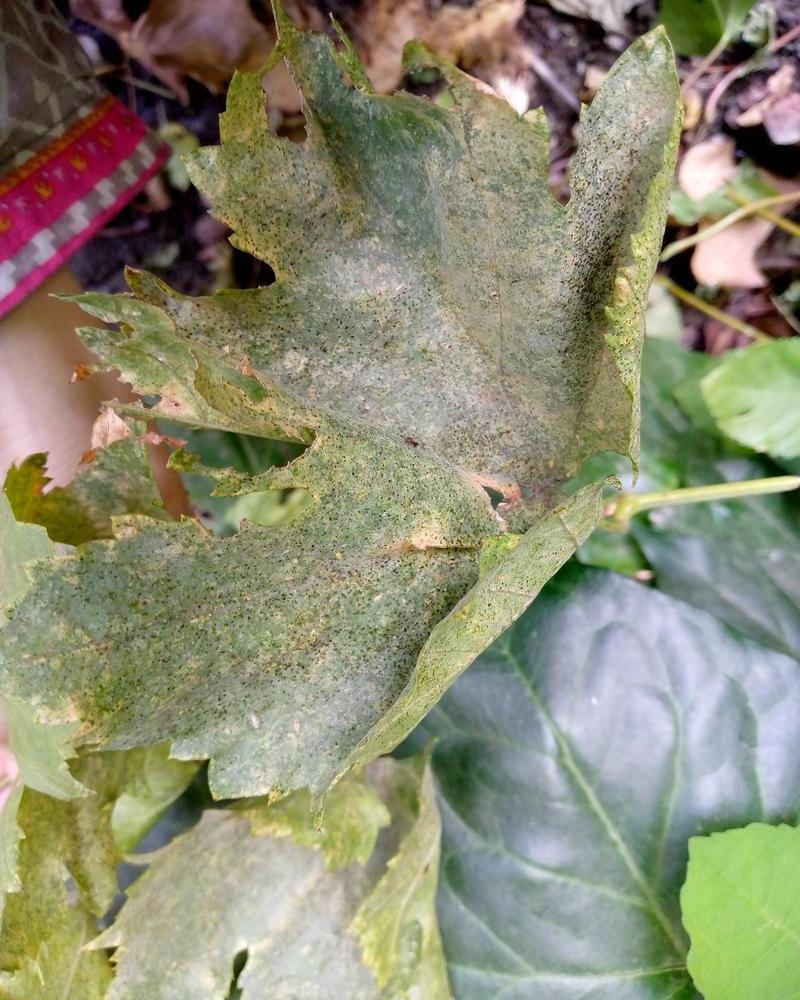Powdery-Mildew: (314, 212, 526, 455), (565, 20, 694, 347), (186, 635, 393, 794), (357, 467, 531, 628), (435, 77, 558, 300), (10, 520, 196, 644), (14, 632, 182, 761), (95, 359, 263, 447), (274, 154, 337, 217)
